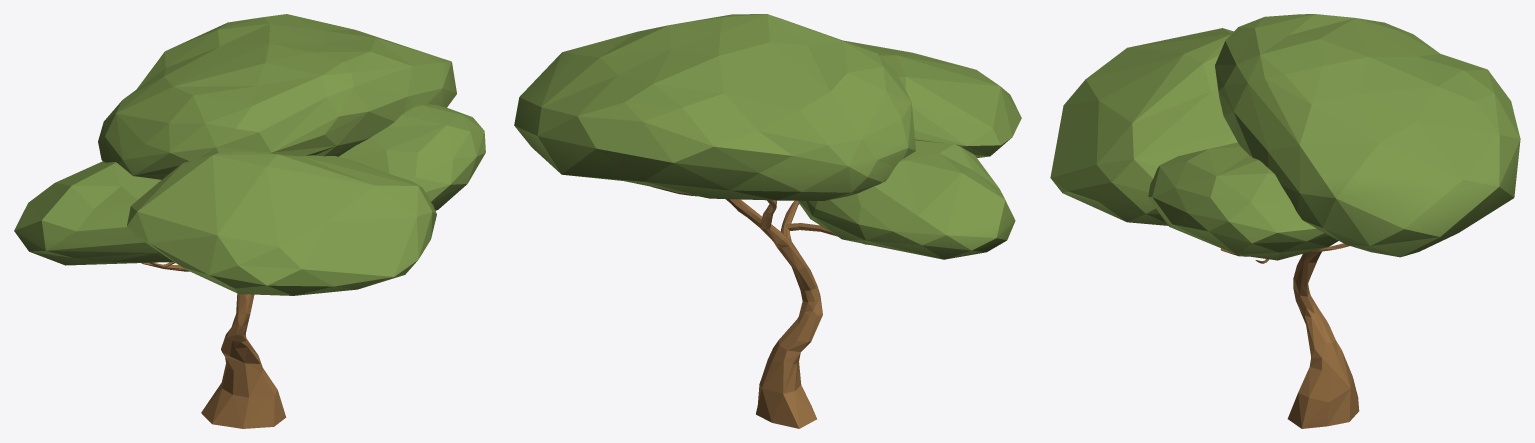
File: JungleTree_Small_B.fbx
The picture shows the model from 3 angles, left to right: view 1: azimuth 30°, elevation 25°; view 2: azimuth 150°, elevation 25°; view 3: azimuth 270°, elevation 25°; orthographic projection. The views are drawn at different scales.
Parts seen in each view (by area): view 1: JungleTree_Small_B; view 2: JungleTree_Small_B; view 3: JungleTree_Small_B.
Boxes of the visible parts, box(x1,y1,x2,y2) form: JungleTree_Small_B: box(14, 14, 485, 428); JungleTree_Small_B: box(514, 14, 1021, 428); JungleTree_Small_B: box(1050, 14, 1520, 428).
Size of the model in its own units: 7.59 by 5.76 by 6.4.
Materials: 1 (1 with a texture image).
